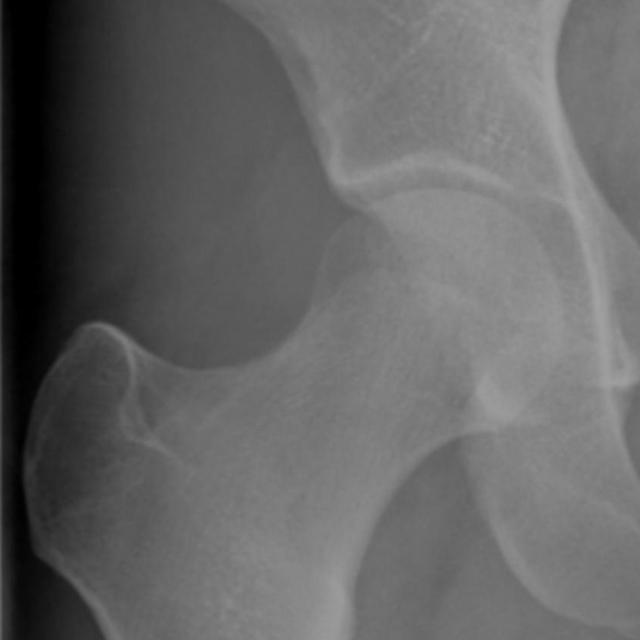Fitted_femural_head: (261, 189, 432, 261)
